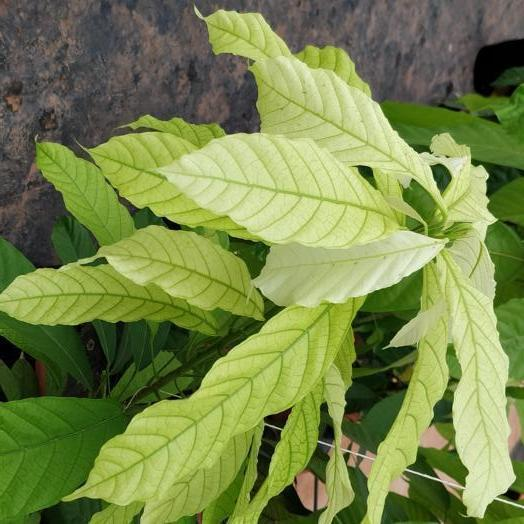Healthy Leaf: (0, 396, 126, 520)
Iron: (70, 299, 359, 503), (252, 57, 442, 204), (158, 133, 399, 248), (437, 252, 514, 517), (91, 225, 262, 319), (0, 264, 218, 334), (254, 231, 446, 306)
